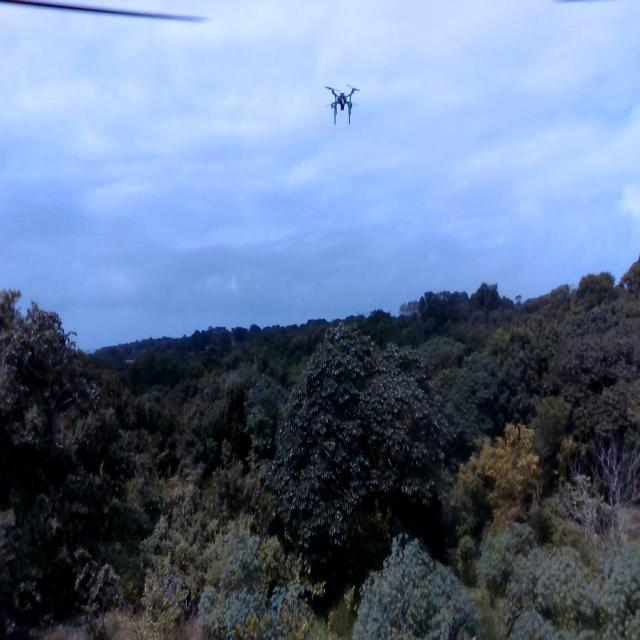-uav-: (313, 65, 371, 145)
